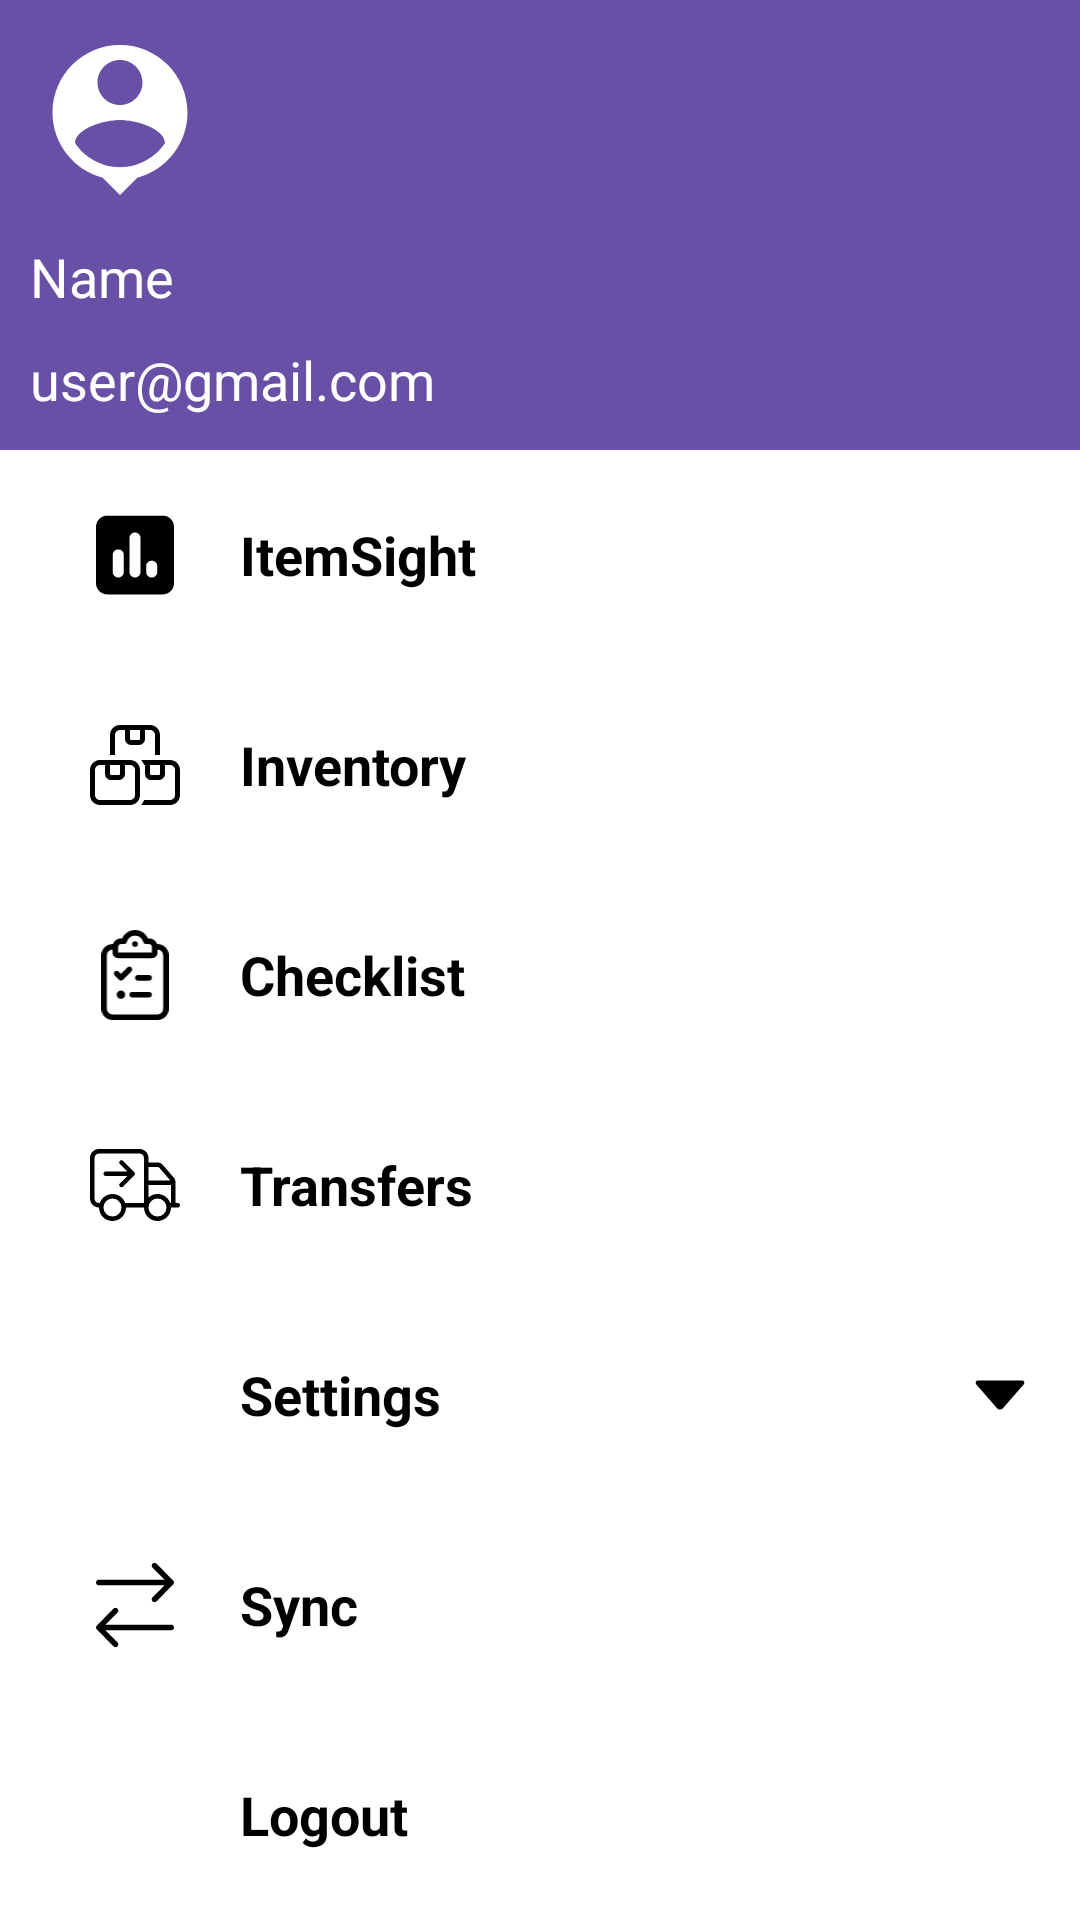

Where icons sit on this 1080x1920 app screen, as (x1, y1, x2, y2):
arrow right left: (96, 1562, 174, 1648)
boxes stacked: (90, 725, 180, 805)
clipboard list check: (101, 930, 169, 1020)
down arrow: (975, 1380, 1025, 1410)
person pin: (52, 45, 188, 195)
square poll vertical: (96, 515, 174, 595)
truck arrow right: (90, 1149, 180, 1221)
